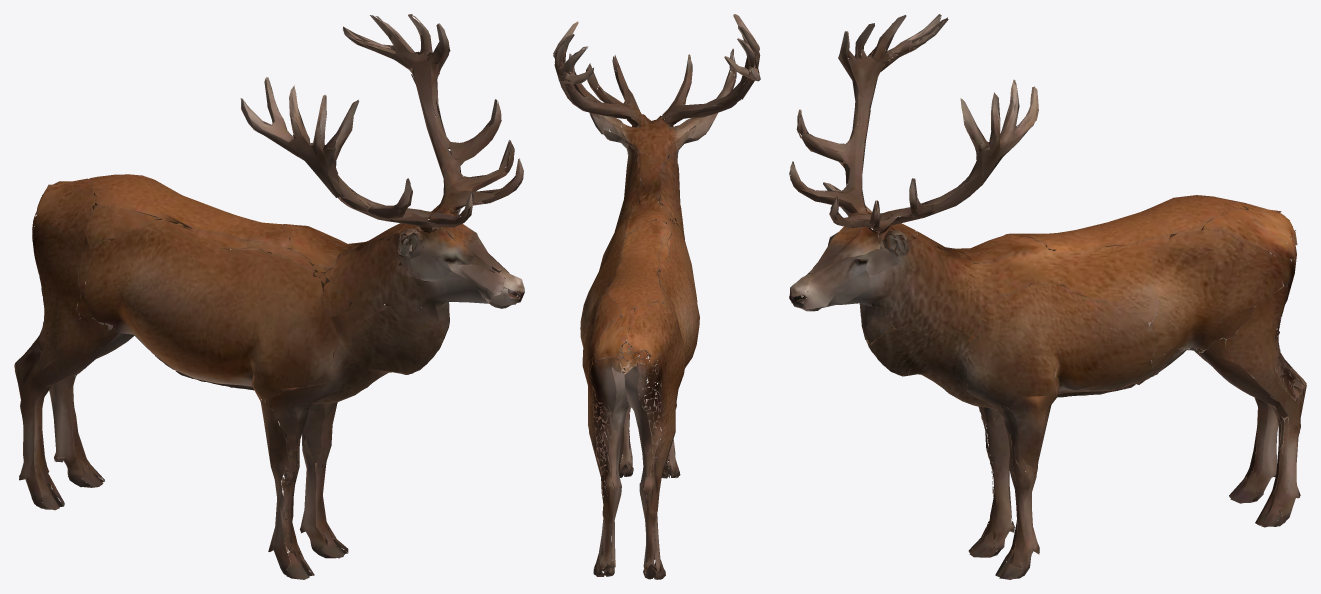
Rendered from obs_deer.glb.
3 renders of one model, left to right at view 1: azimuth 30°, elevation 25°; view 2: azimuth 150°, elevation 25°; view 3: azimuth 270°, elevation 25°, orthographic. The views are drawn at different scales.
Parts seen in each view (by area): view 1: material; view 2: material; view 3: material.
Part boxes in pixels (x1,y1,x2,y2): material: [14, 14, 524, 579]; material: [553, 14, 760, 579]; material: [789, 14, 1306, 579].
Size of the model in its own units: 0.5209 by 0.8861 by 0.8041.
1 material, 1 textured.
